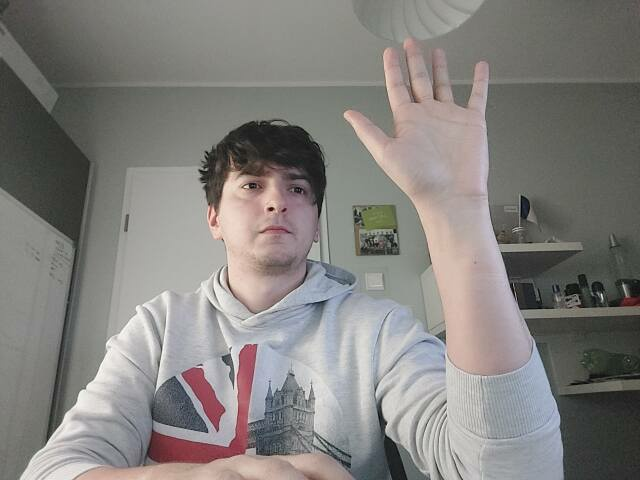hello: (344, 38, 492, 198)
